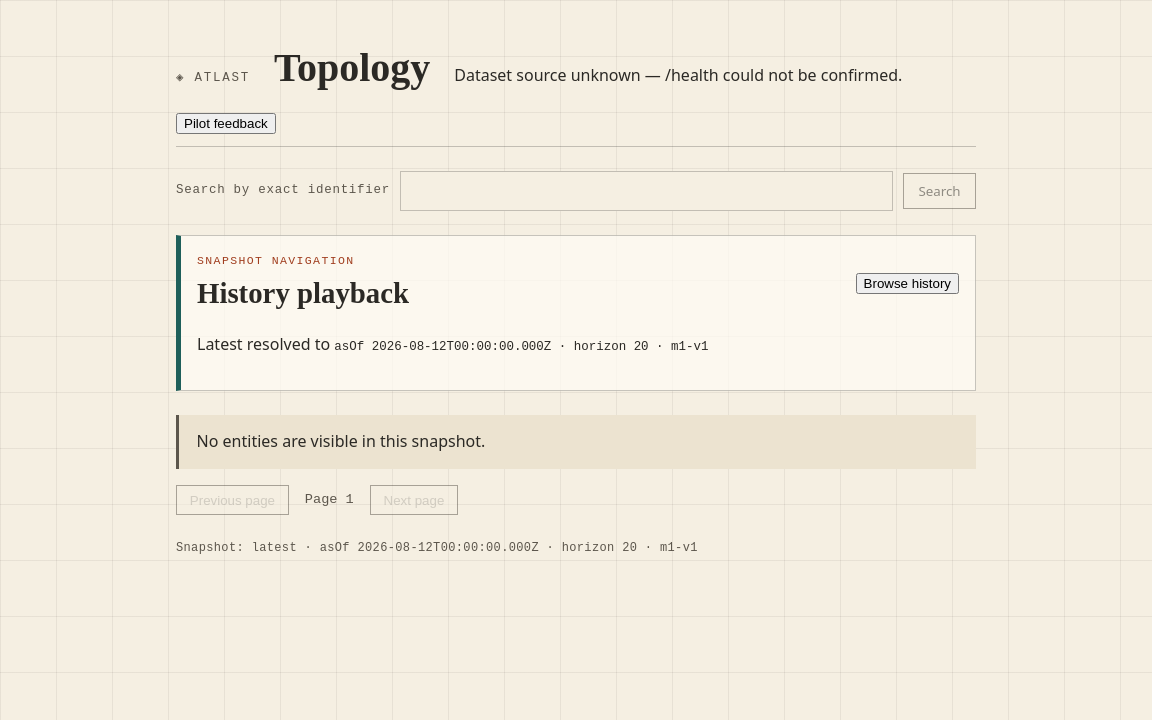
Test: TopologyPage — search › searches on submit and renders entity and relationship results distinctly
The width and height of the screenshot is (1152, 720).
Expected: the text "No entities are visible in this snapshot." is shown, [176,415,976,469]
Type "checkout" into the search field labelled "Search by exact identifier". click: (646, 191)
box: [400,171,893,211]
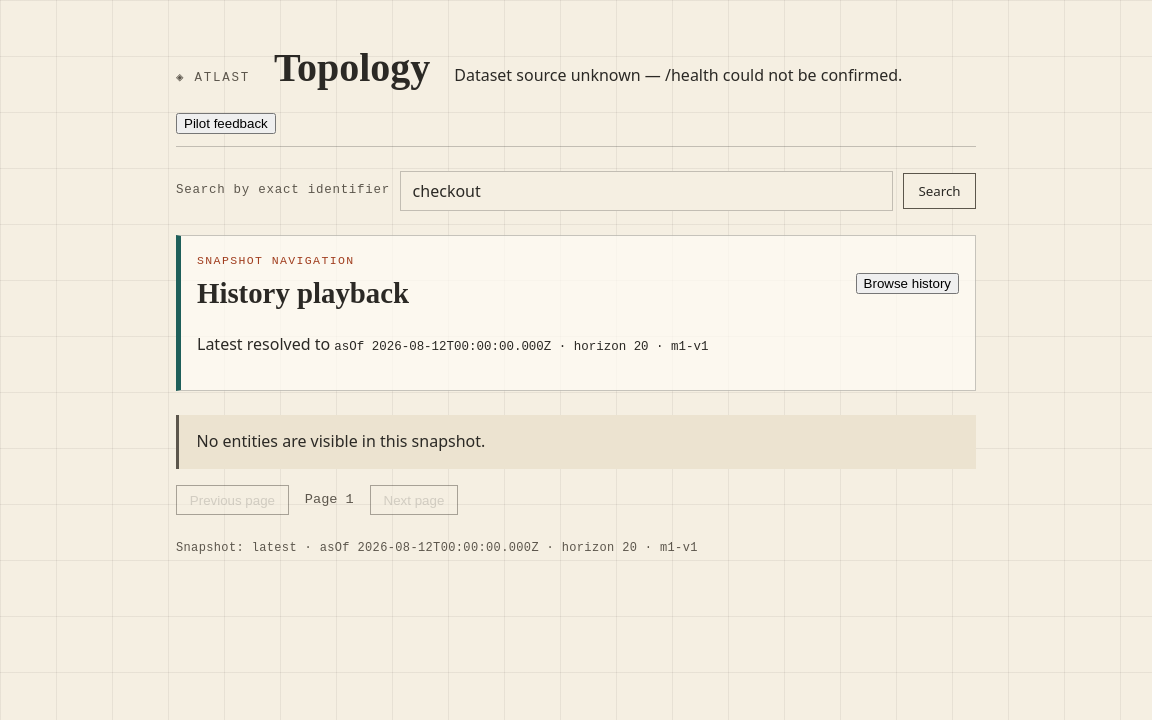
Submit the form, box [176,171,976,211]
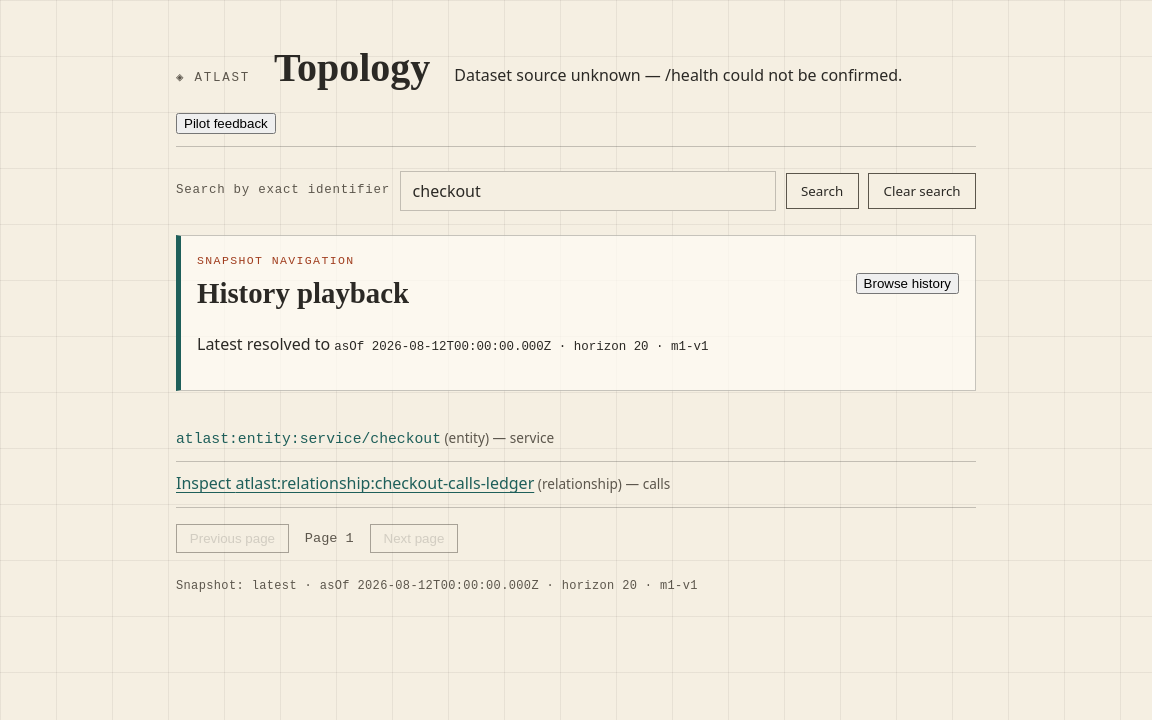
Expected: the link "atlast:entity:service/checkout" is shown, [176,431,441,447]
Expected: the button "Inspect atlast:relationship:checkout-calls-ledger" is shown, [176,471,534,497]
